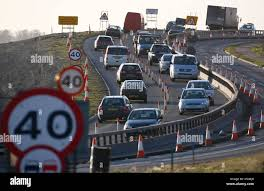car: (123, 107, 162, 138), (177, 87, 211, 115), (97, 95, 132, 121), (187, 79, 216, 106), (171, 55, 198, 81), (104, 46, 130, 69), (120, 80, 147, 102), (149, 43, 173, 64), (135, 34, 159, 55), (117, 63, 145, 80), (94, 35, 114, 52), (159, 54, 175, 73), (105, 25, 123, 37)
cone: (173, 129, 184, 152), (137, 135, 145, 158), (247, 114, 254, 136), (206, 125, 212, 145), (231, 120, 237, 140), (249, 80, 255, 98), (84, 75, 91, 90), (84, 57, 92, 69), (259, 109, 264, 127), (252, 89, 258, 103), (240, 77, 245, 93), (235, 72, 240, 87), (85, 87, 89, 105), (85, 65, 90, 79), (68, 43, 73, 52)
